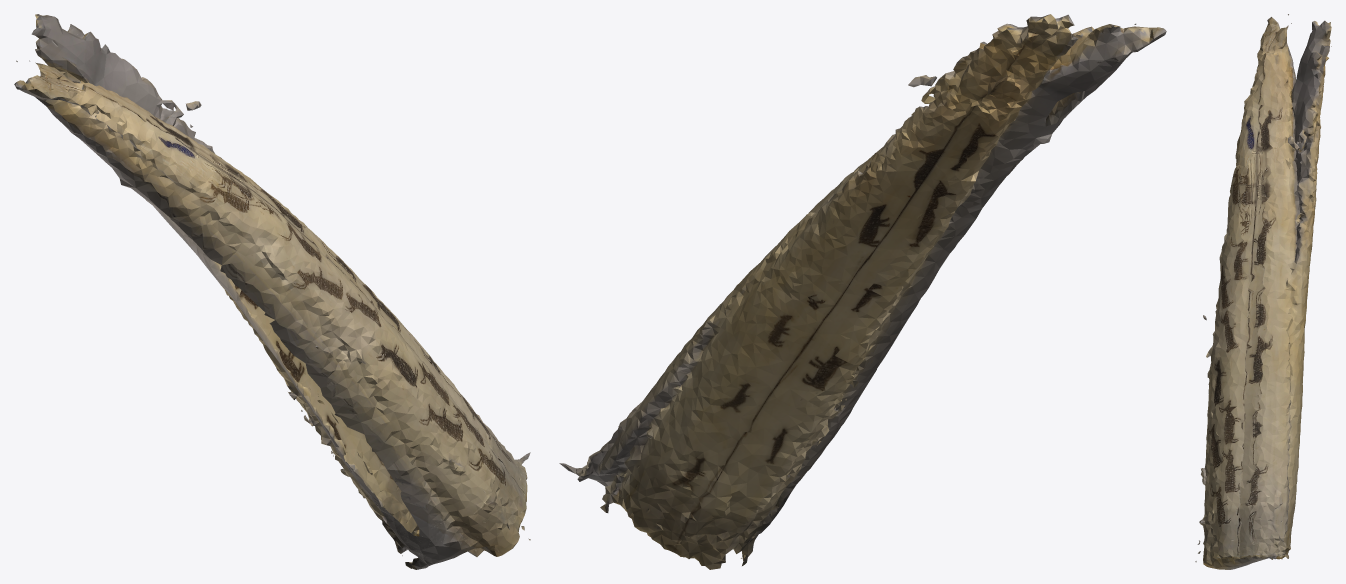
File: decorative_tusk.dae
3 renders of one model, left to right at view 1: azimuth 30°, elevation 25°; view 2: azimuth 150°, elevation 25°; view 3: azimuth 270°, elevation 25°, orthographic. The views are drawn at different scales.
Visible parts, largest first — view 1: node; view 2: node; view 3: node.
Part boxes in pixels (x1,y1,x2,y2): node: [14, 14, 530, 569]; node: [559, 14, 1166, 569]; node: [1195, 14, 1331, 569].
Bounding box in the file's own units: 1.06 × 1.16 × 0.337.
1 material, 1 textured.
